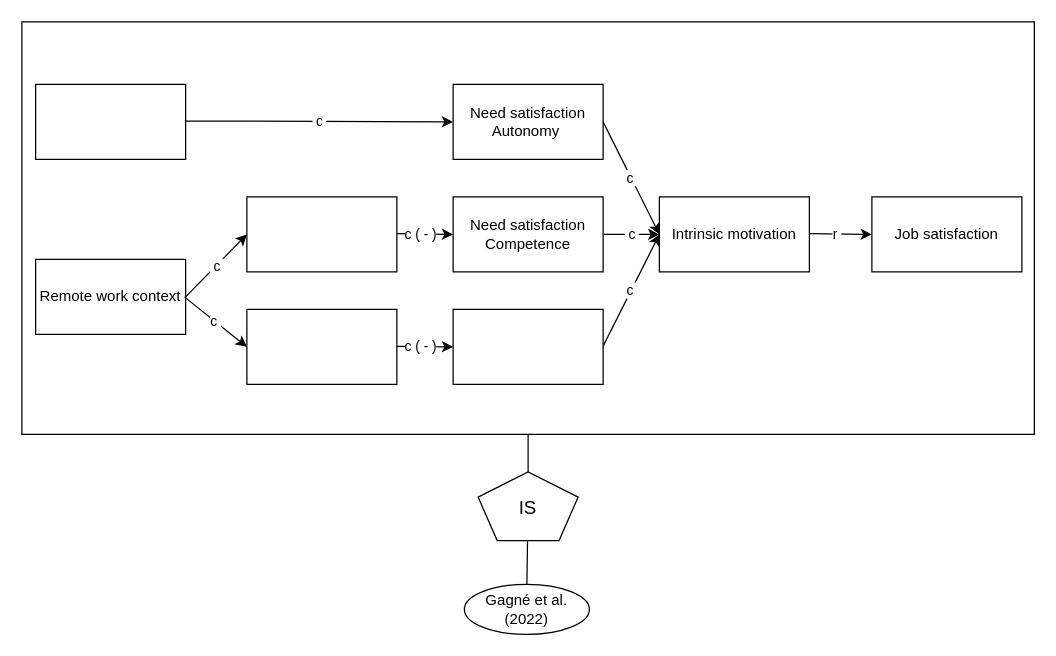
Some shapes in this 1056 by 656 pixel diagram are drawn without their labels. Each missing label, with the box of its shape:
Contextual competence threats: (246, 196, 397, 272)
Hybrid work context: (34, 83, 186, 159)
Need satisfaction Social relatedness: (452, 308, 603, 384)
Social disconnection risk: (246, 308, 397, 384)
